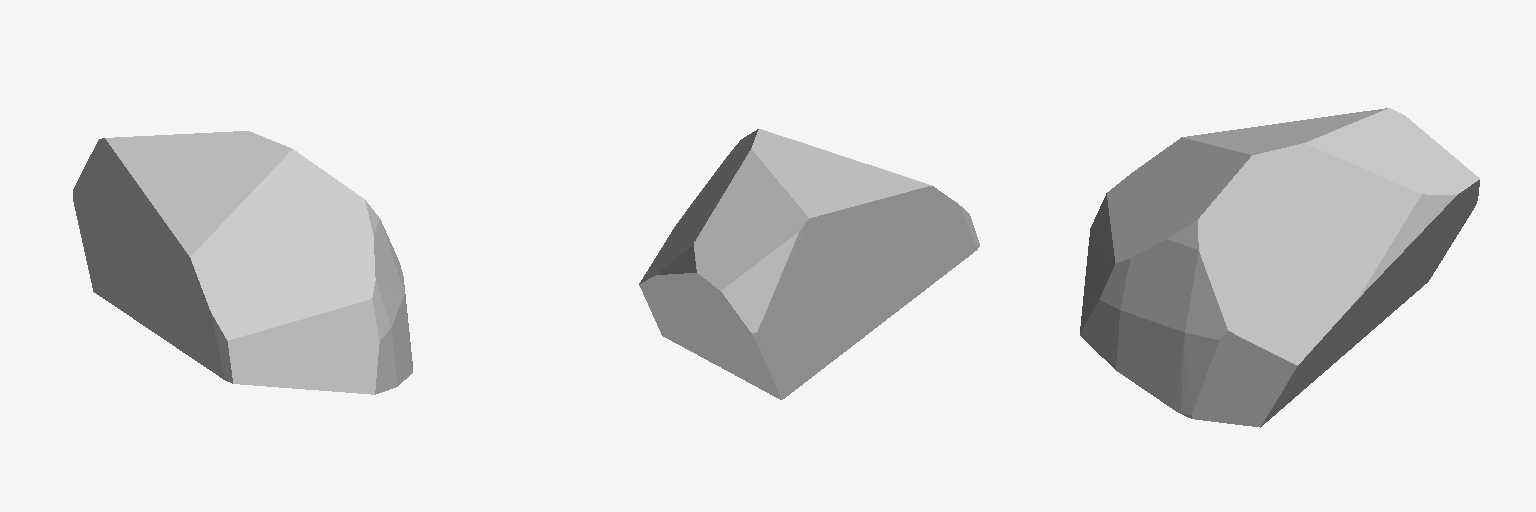
File: Sphere_Cell_Fracture18.obj
The picture shows the model from 3 angles: view 1: azimuth 30°, elevation 25°; view 2: azimuth 150°, elevation 25°; view 3: azimuth 270°, elevation 25°; orthographic projection.
Bounding box in the file's own units: 0.639 × 0.5853 × 0.923.